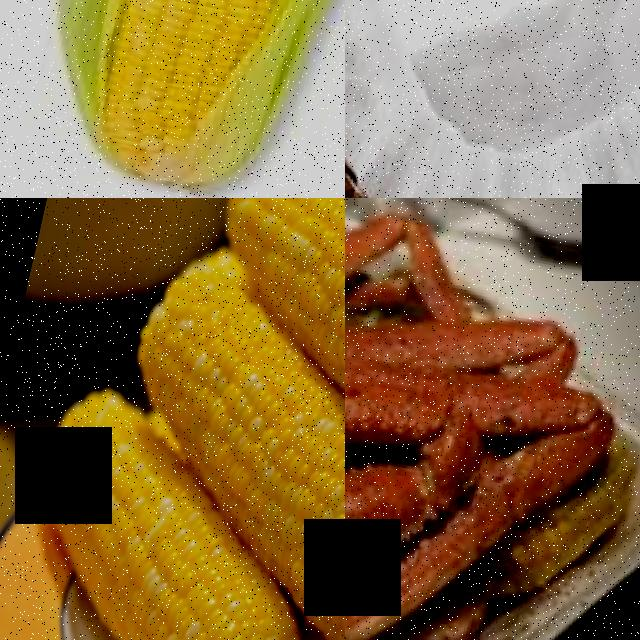coconut: (345, 0, 640, 198)
corn: (82, 0, 340, 193), (21, 379, 205, 624), (121, 254, 301, 483), (213, 402, 345, 640), (119, 537, 329, 640), (205, 198, 345, 339)
crab: (345, 252, 619, 640)
